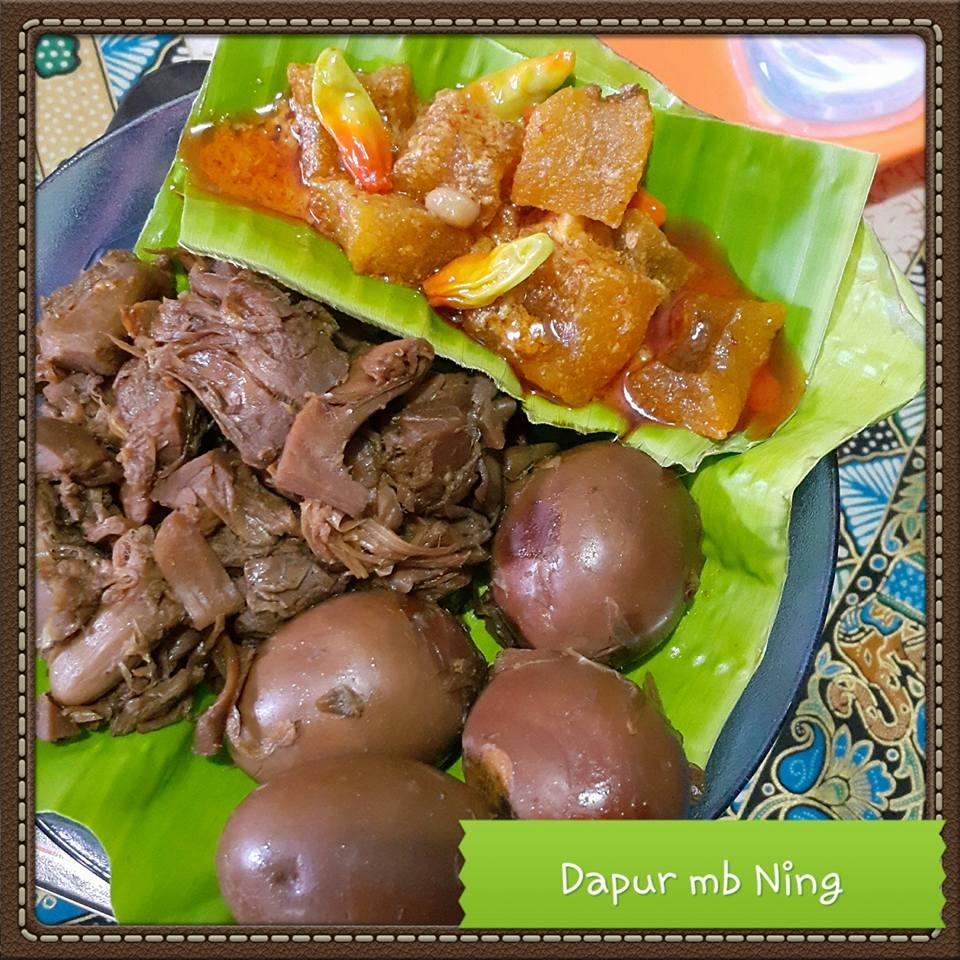gudeg: (39, 85, 785, 818)
